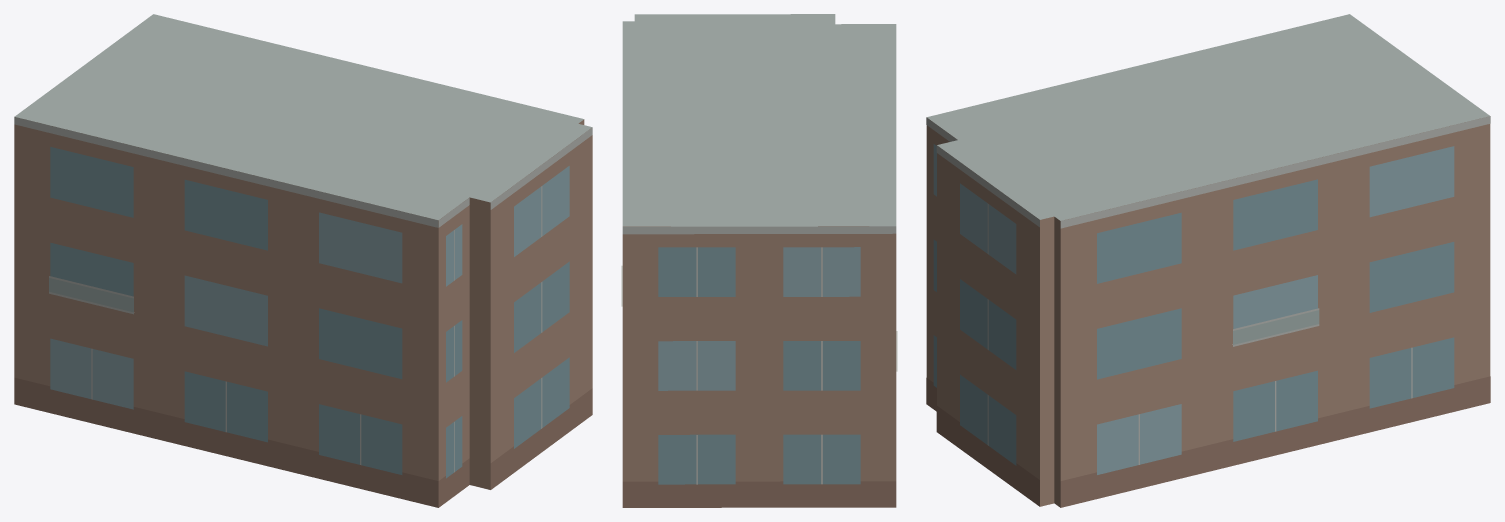
The model's file is survey-upis-32885860.glb.
3 views of the same model, side by side, from view 1: azimuth 30°, elevation 25°; view 2: azimuth 150°, elevation 25°; view 3: azimuth 270°, elevation 25° (orthographic). The views are drawn at different scales.
Parts seen in each view (by area): view 1: survey-upis-32885860.tmp; view 2: survey-upis-32885860.tmp; view 3: survey-upis-32885860.tmp.
Boxes of the visible parts, x1,y1,x2,y2 form: survey-upis-32885860.tmp: (14,14,592,507); survey-upis-32885860.tmp: (621,14,897,507); survey-upis-32885860.tmp: (926,14,1490,507).
Size of the model in its own units: 14.16 by 9.15 by 16.31.
